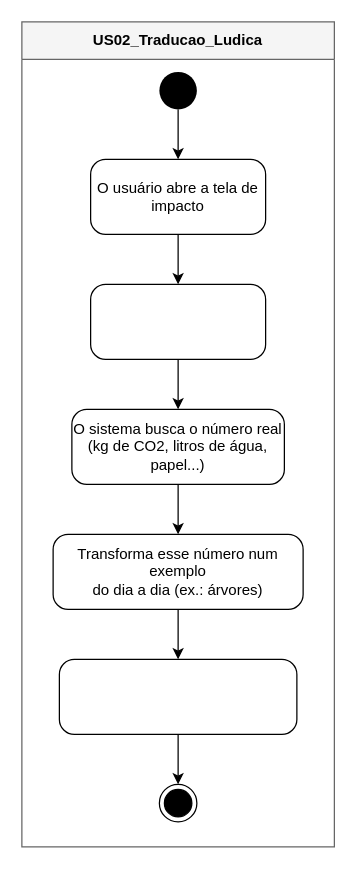
The diagram is 356 pixels wide and 869 high, and some of its shapes have lost their labels. Each missing label, with the centre of its shape:
"Escolhe uma aba: Carbono, Água ou Papel" goes at (177,321).
"Mostra o exemplo e o número real (há pelo menos 3 opções por aba)" goes at (177,696).
